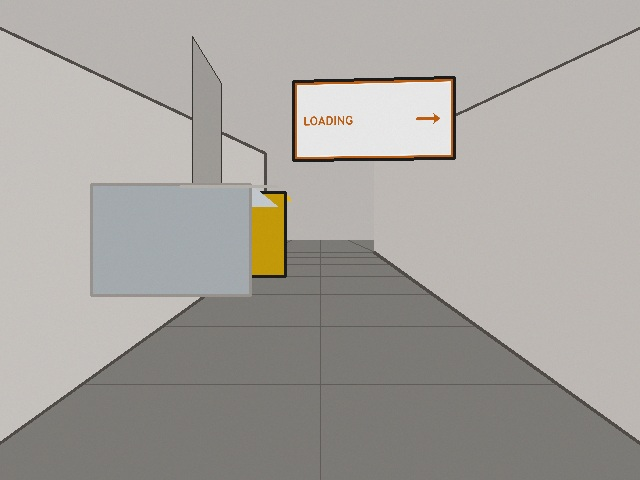directional_sign: (293, 77, 454, 160)
forklift: (138, 192, 291, 276)
hospital_bed: (91, 184, 277, 295)
